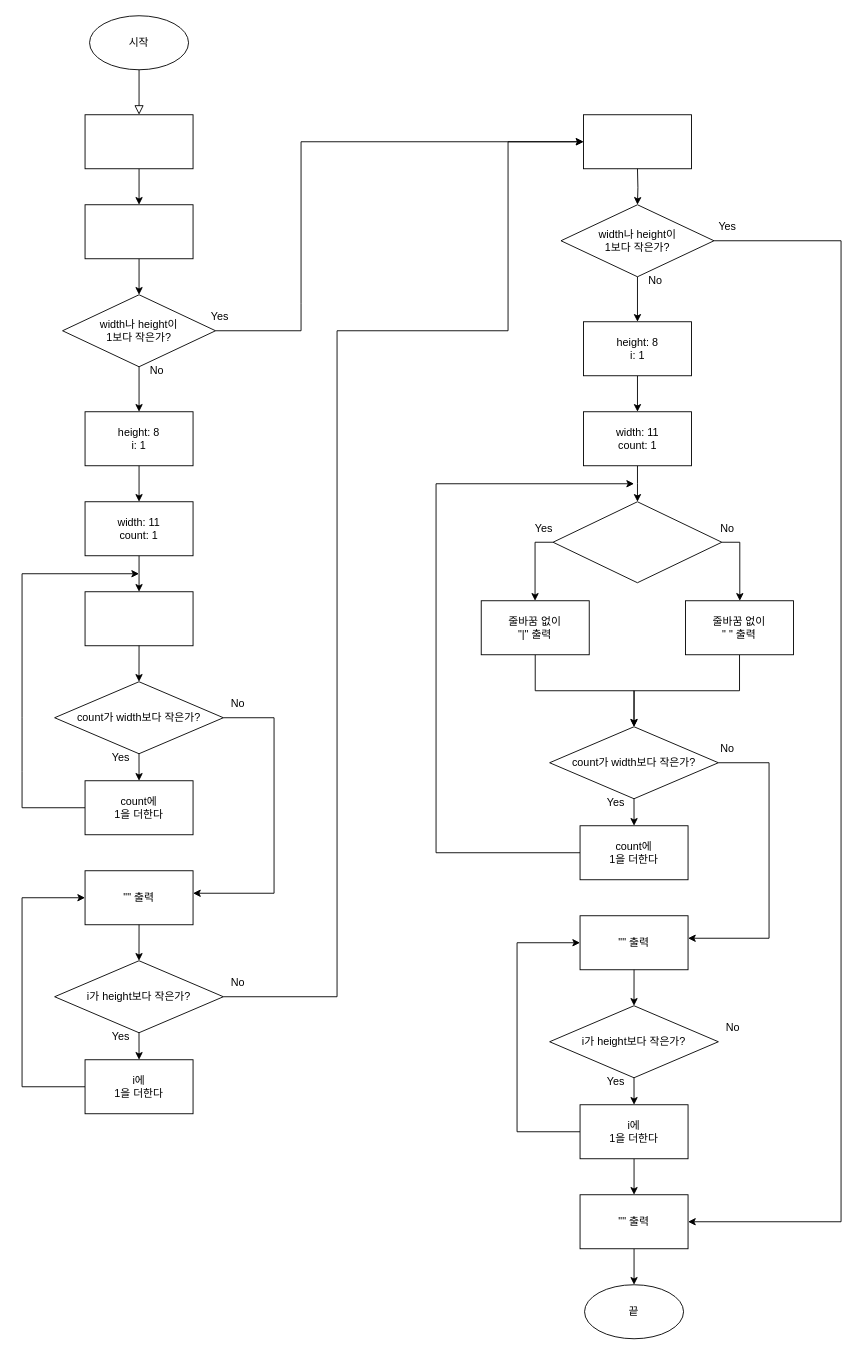
The diagram is 864 pixels wide and 1355 high, and some of its shapes have lost their labels. Each missing label, with the box of its shape:
count가 width/2 -1이나 width/2 +1과 같은가?: (552, 501, 722, 583)
makeBar 실행 height: 4: (583, 114, 691, 169)
makeIcecream 실행: (84, 204, 193, 259)
width: 11: (84, 114, 193, 169)
줄바꿈 없이 "*" 출력: (84, 591, 193, 646)
